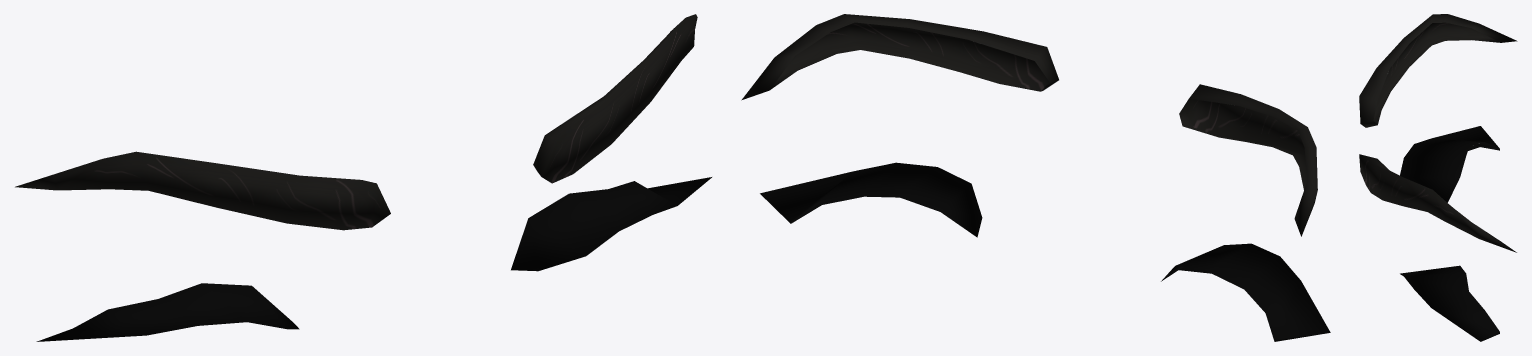
The model's file is brous2.fbx.
The picture shows the model from 3 angles, left to right: view 1: azimuth 30°, elevation 25°; view 2: azimuth 150°, elevation 25°; view 3: azimuth 270°, elevation 25°; orthographic projection. The views are drawn at different scales.
Visible parts, largest first — view 1: brous2; view 2: brous2; view 3: brous2.
Part boxes in pixels (x1,y1,x2,y2): brous2: (15, 14, 711, 341); brous2: (741, 14, 1330, 341); brous2: (1359, 14, 1517, 341).
Bounding box in the file's own units: 11.14 × 3.43 × 3.46.
